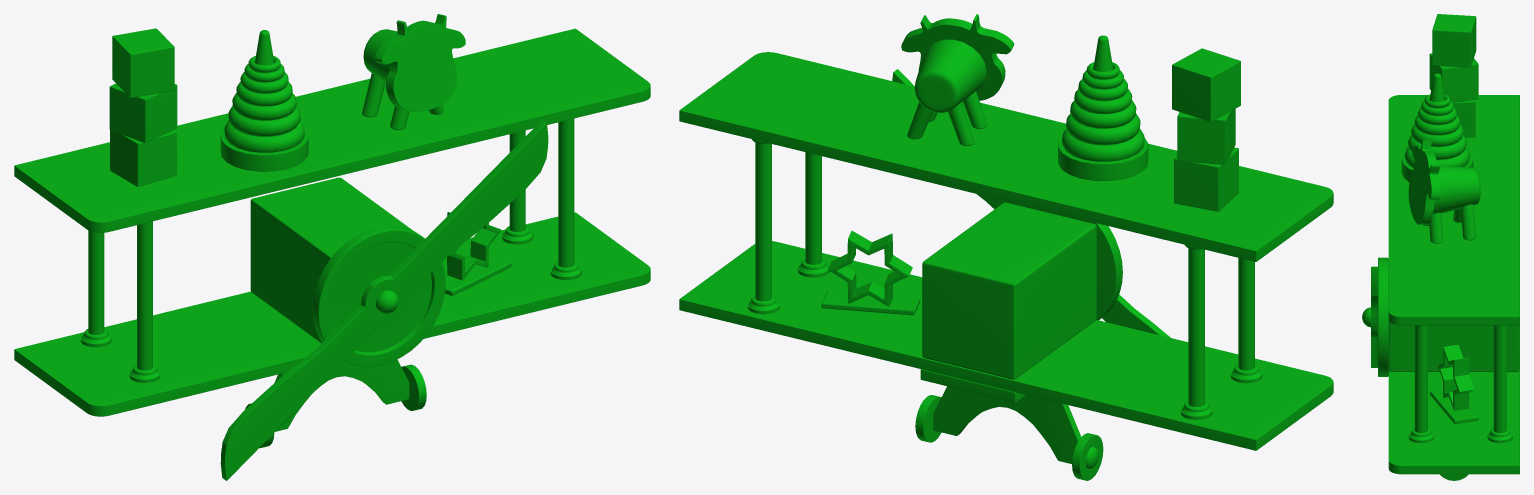
Rendered from avion.FBX.
3 renders of one model, left to right at view 1: azimuth 30°, elevation 25°; view 2: azimuth 150°, elevation 25°; view 3: azimuth 270°, elevation 25°, orthographic. The views are drawn at different scales.
Parts seen in each view (by area): view 1: Avion; view 2: Avion; view 3: Avion.
Part boxes in pixels (x1,y1,x2,y2): Avion: (14,14,650,480); Avion: (679,14,1333,480); Avion: (1362,14,1519,480).
Bounding box in the file's own units: 23.7 × 17.46 × 7.12.
